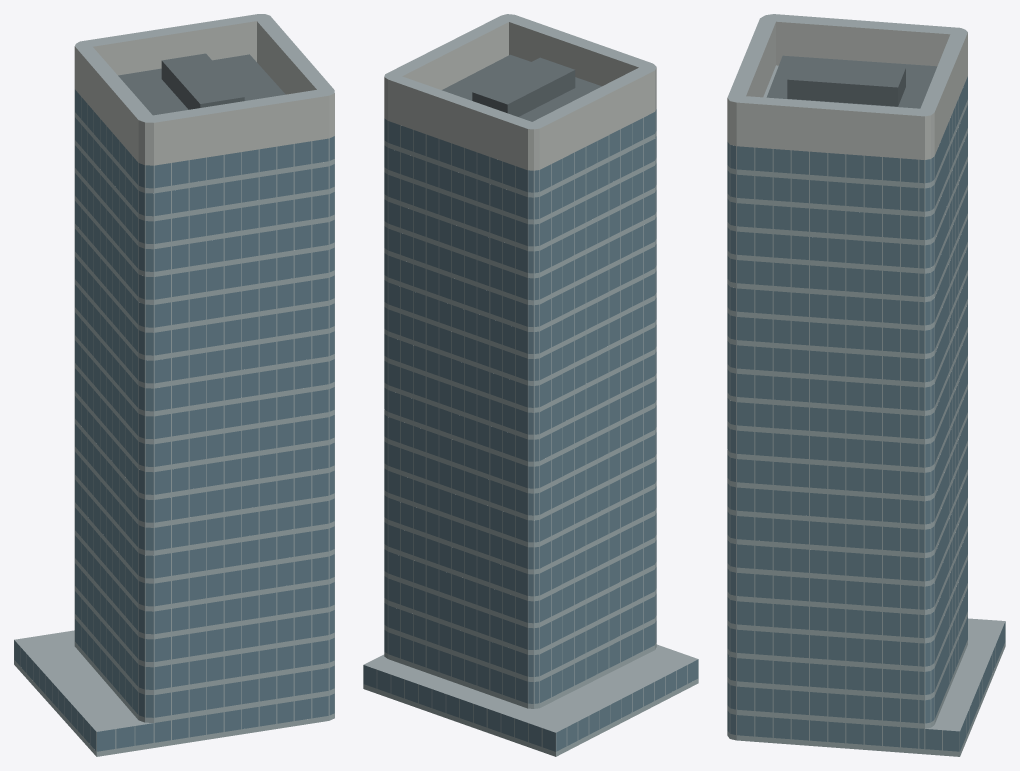
Rendered from 8-canada-square-far.glb.
3 views of the same model, side by side, from view 1: azimuth 30°, elevation 25°; view 2: azimuth 150°, elevation 25°; view 3: azimuth 270°, elevation 25° (orthographic). The views are drawn at different scales.
Visible parts, largest first — view 1: 8-canada-square-0-glass, 8-canada-square-0-frame, 8-canada-square-0-crown, 8-canada-square-0-roof, 8-canada-square-0-plant; view 2: 8-canada-square-0-glass, 8-canada-square-0-frame, 8-canada-square-0-crown, 8-canada-square-0-roof, 8-canada-square-0-plant; view 3: 8-canada-square-0-glass, 8-canada-square-0-frame, 8-canada-square-0-crown, 8-canada-square-0-roof, 8-canada-square-0-plant.
Part boxes in pixels (left/top/right/bottom): 8-canada-square-0-glass: left=14, top=89, right=334, bottom=751; 8-canada-square-0-frame: left=14, top=89, right=334, bottom=756; 8-canada-square-0-crown: left=74, top=21, right=334, bottom=165; 8-canada-square-0-roof: left=14, top=14, right=334, bottom=731; 8-canada-square-0-plant: left=118, top=53, right=285, bottom=115; 8-canada-square-0-glass: left=363, top=109, right=698, bottom=751; 8-canada-square-0-frame: left=363, top=112, right=698, bottom=756; 8-canada-square-0-crown: left=384, top=22, right=656, bottom=170; 8-canada-square-0-roof: left=363, top=14, right=698, bottom=732; 8-canada-square-0-plant: left=442, top=54, right=601, bottom=121; 8-canada-square-0-glass: left=727, top=76, right=1005, bottom=751; 8-canada-square-0-frame: left=727, top=98, right=1005, bottom=756; 8-canada-square-0-crown: left=727, top=21, right=967, bottom=159; 8-canada-square-0-roof: left=727, top=14, right=1005, bottom=731; 8-canada-square-0-plant: left=766, top=55, right=937, bottom=108.
Size of the model in its own units: 85.16 by 200 by 79.03.
